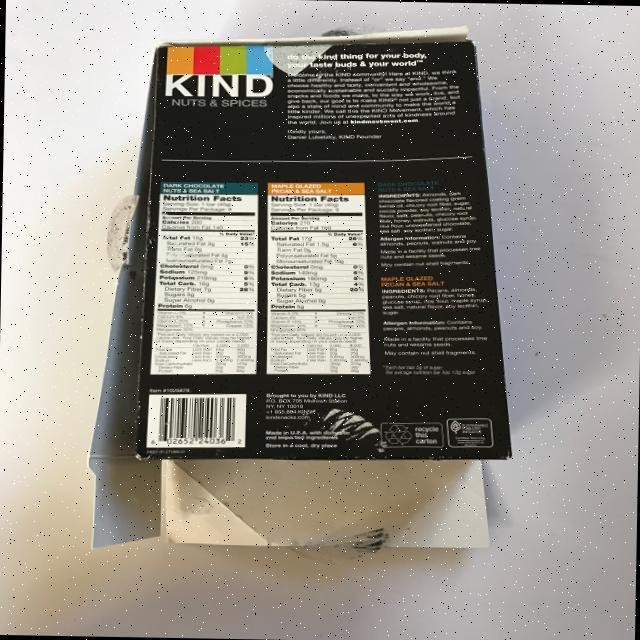paper: (102, 19, 510, 556)
